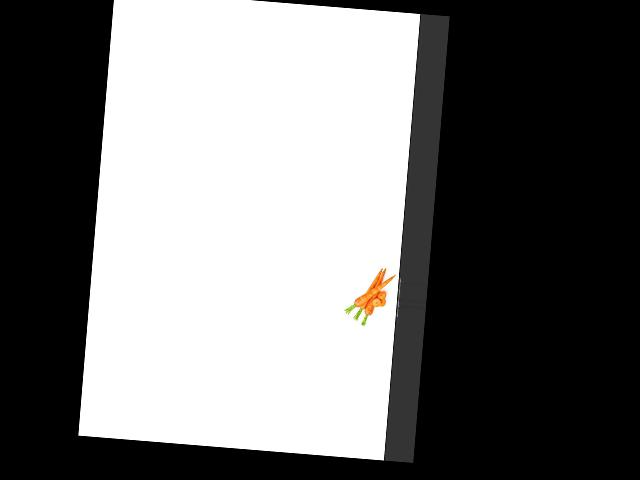carrot: (358, 264, 384, 320)
